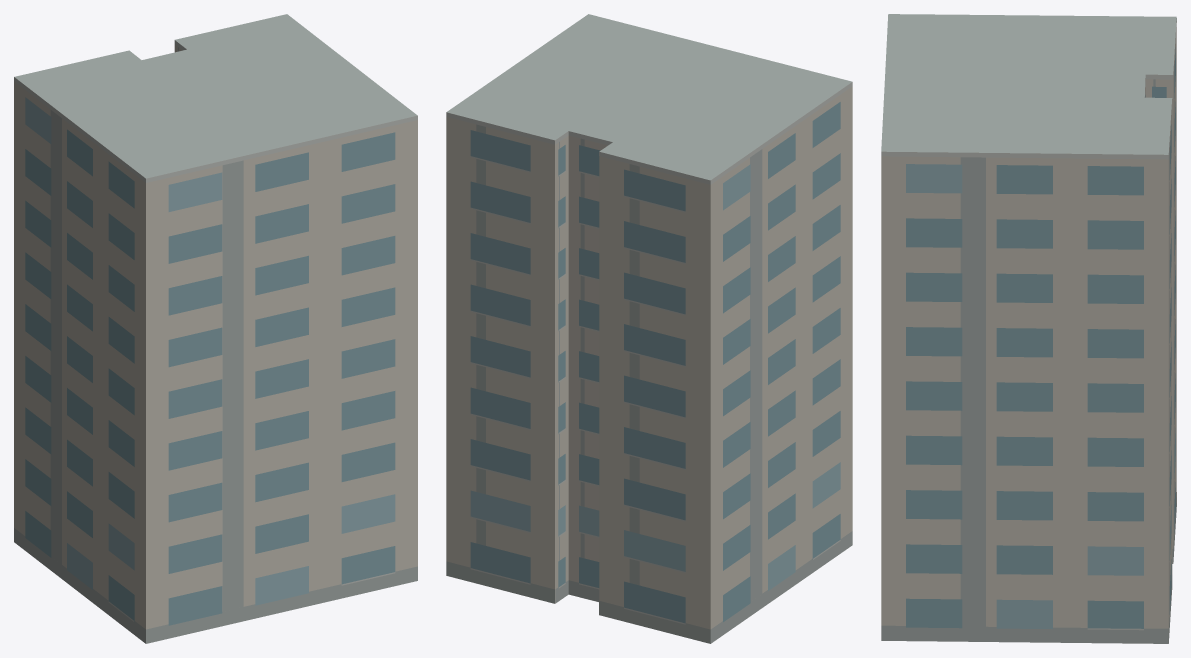
Rendered from survey-upis-32669751.glb.
3 renders of one model, left to right at view 1: azimuth 30°, elevation 25°; view 2: azimuth 150°, elevation 25°; view 3: azimuth 270°, elevation 25°, orthographic. The views are drawn at different scales.
Visible parts, largest first — view 1: survey-upis-32669751.tmp; view 2: survey-upis-32669751.tmp; view 3: survey-upis-32669751.tmp.
Part boxes in pixels (left/top/right/bottom): survey-upis-32669751.tmp: left=14, top=14, right=417, bottom=643; survey-upis-32669751.tmp: left=446, top=14, right=852, bottom=643; survey-upis-32669751.tmp: left=881, top=14, right=1176, bottom=643.
Bounding box in the file's own units: 15.82 × 25.6 × 14.03.
